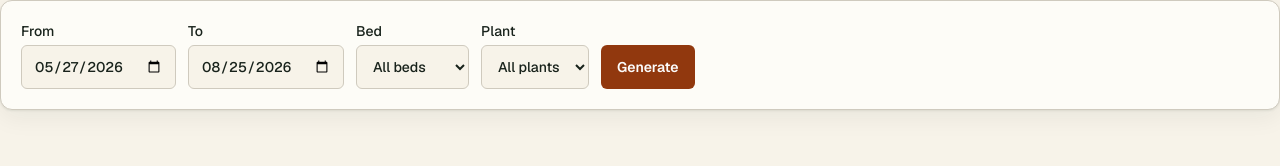
Test: TrendsPanel › shows an error message when the actions return null for an invalid range
Step 1. Click the button "Generate" → coordinates (648, 67), box top-left (601, 45), bottom-right (695, 89)
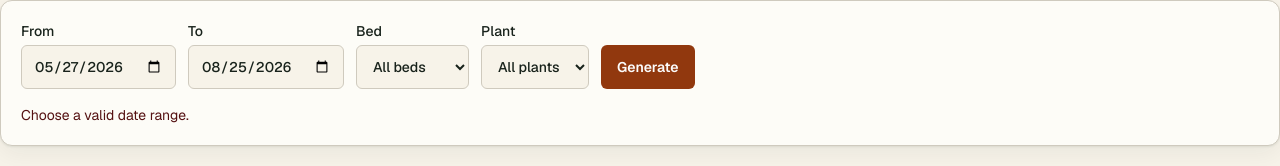
Check: the message reads "Choose a valid date range.", box top-left (21, 106), bottom-right (189, 124)
